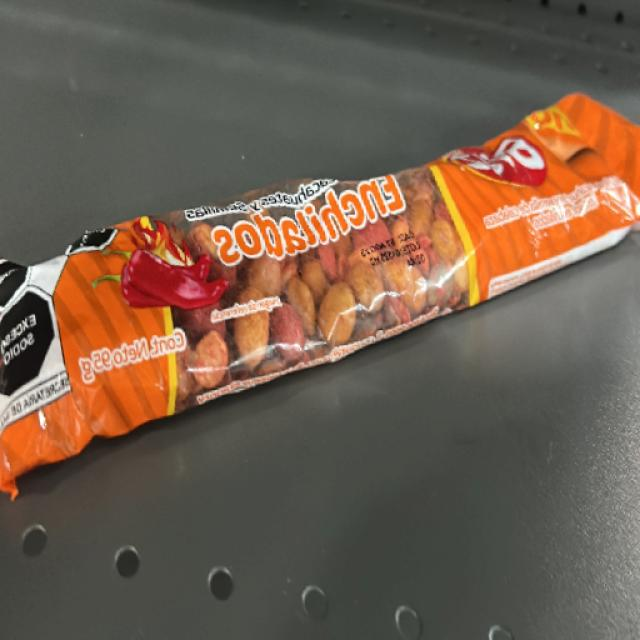bitzEnchilado95: (101, 170, 574, 360)
